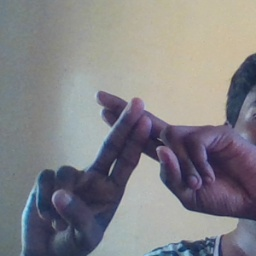F: (59, 70, 207, 206)
